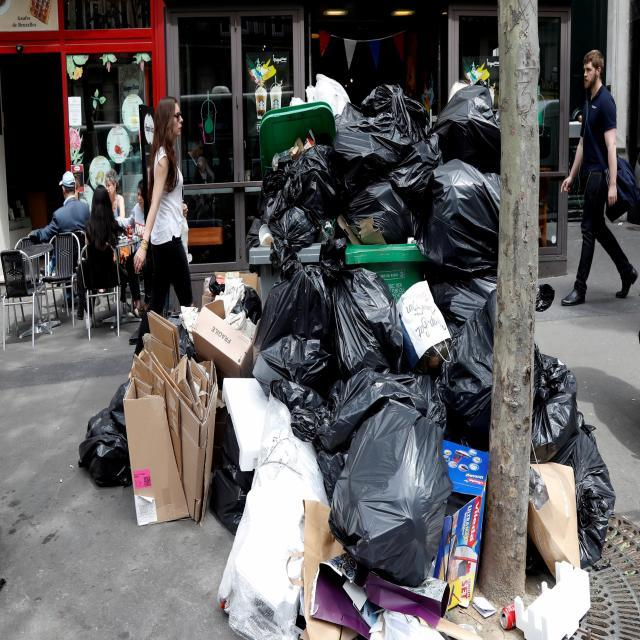garbage: (198, 100, 548, 628)
